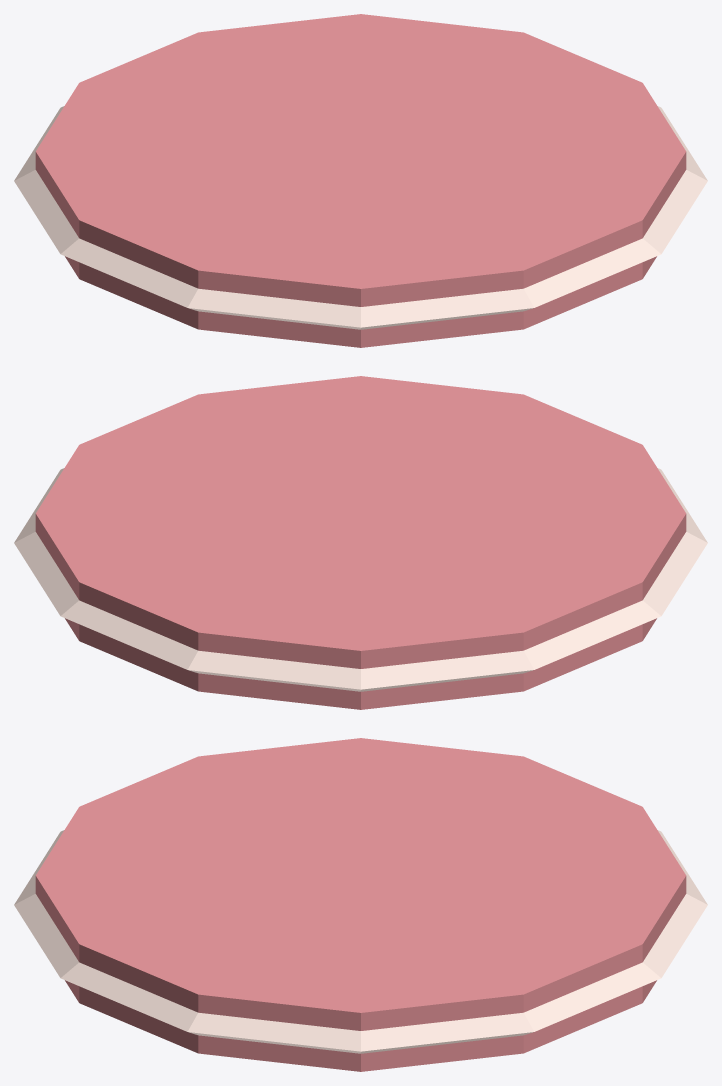
File: dog_ham.glb
The picture shows the model from 3 angles, top to bottom: view 1: azimuth 30°, elevation 25°; view 2: azimuth 150°, elevation 25°; view 3: azimuth 270°, elevation 25°; orthographic projection.
Visible parts, largest first — view 1: food_ham, food_ham_fat; view 2: food_ham, food_ham_fat; view 3: food_ham, food_ham_fat.
Boxes of the visible parts, x1=… form: food_ham: x1=35, y1=14, x2=686, y2=347; food_ham_fat: x1=14, y1=106, x2=707, y2=329; food_ham: x1=35, y1=376, x2=686, y2=709; food_ham_fat: x1=14, y1=468, x2=707, y2=691; food_ham: x1=35, y1=738, x2=686, y2=1071; food_ham_fat: x1=14, y1=830, x2=707, y2=1053.
Bounding box in the file's own units: 0.128 × 0.012 × 0.128.
